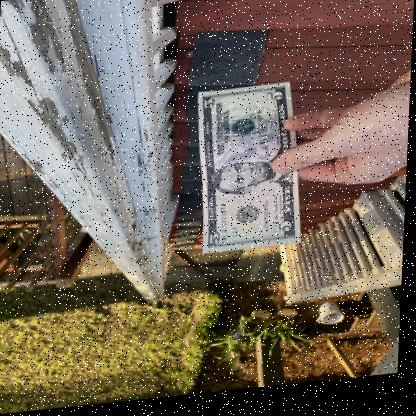five-front: (198, 80, 299, 252)
